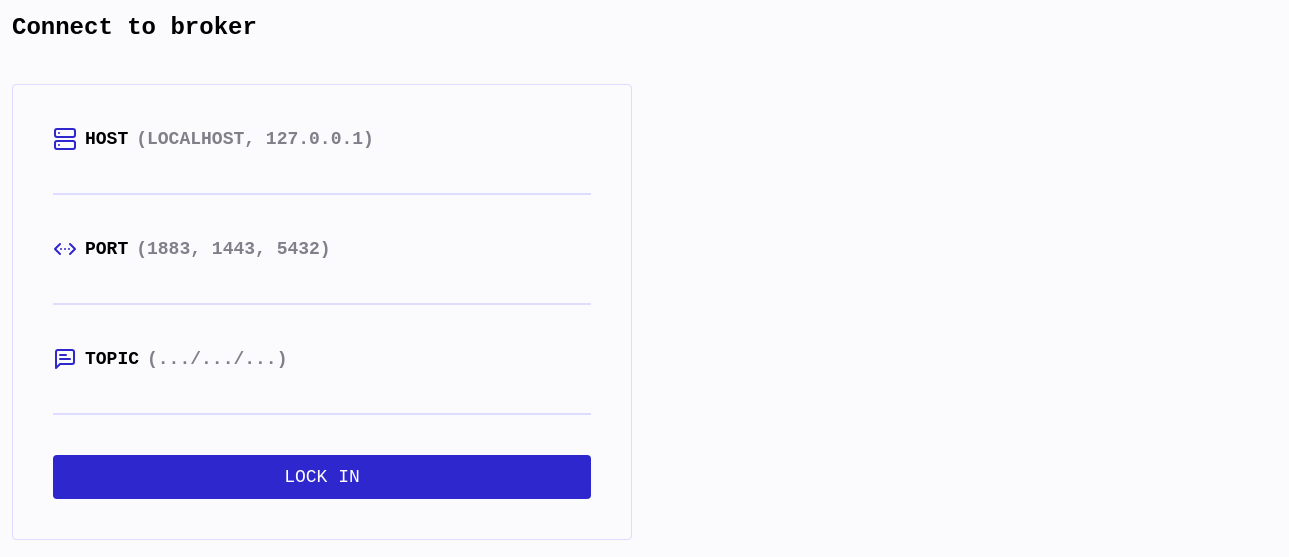
Test: Homepage component › show error if not all fields are filled after lock in clicked
The image size is (1289, 557).
Step 1. Click the button "Lock in" → (322, 477), box [53,455,591,499]
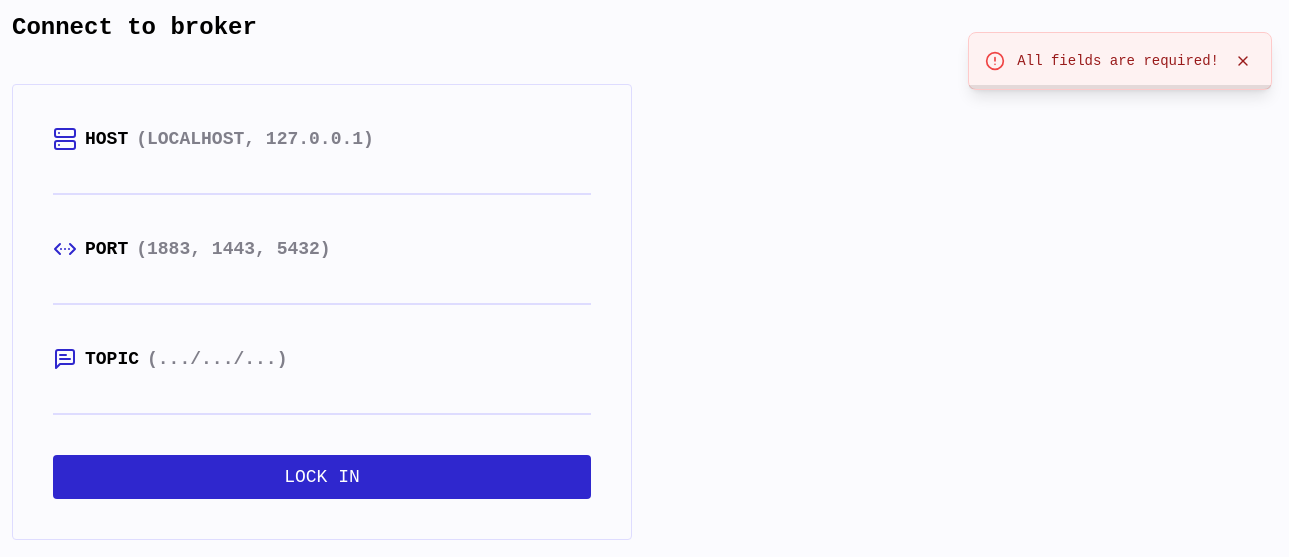
Expected: the text "All fields are required!" is shown, [1017,50,1219,72]
